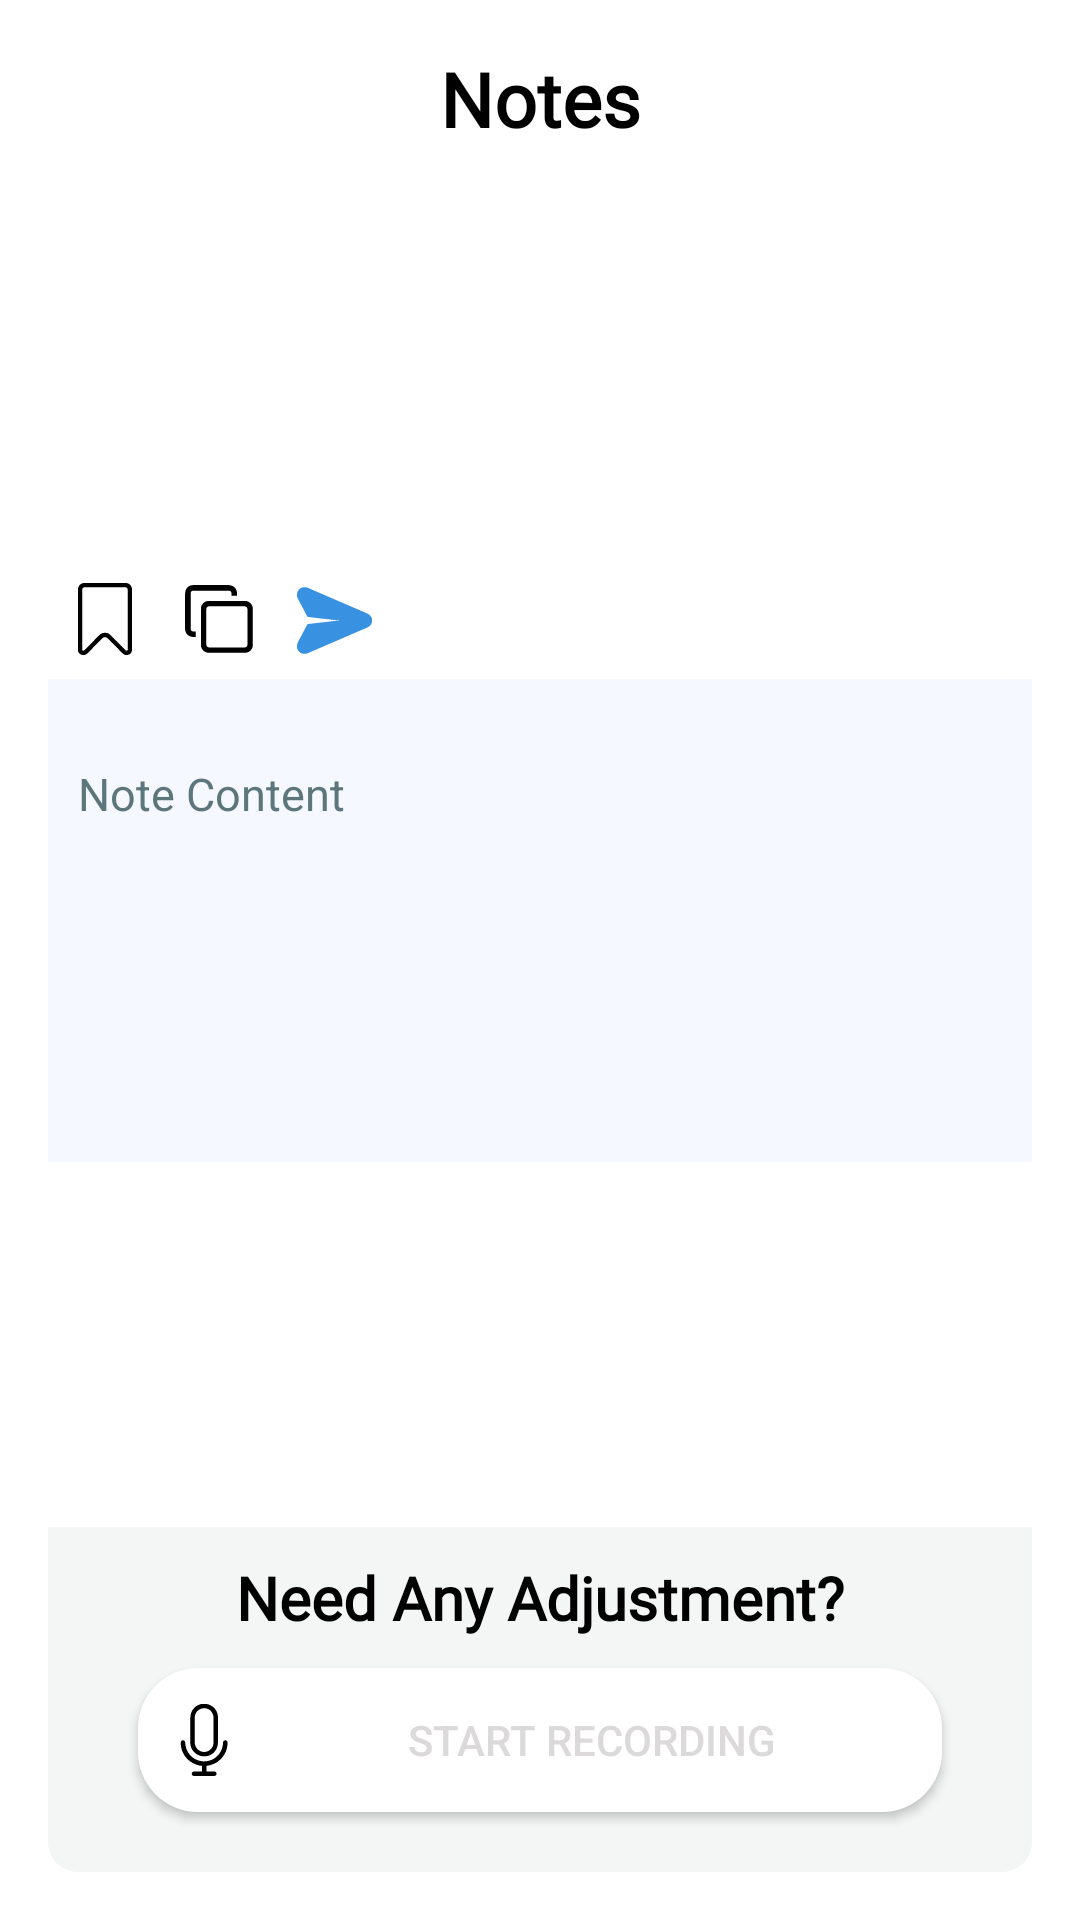

Icons on this 1080w x 1920h Android screen, each with its box as (x1, y1, x2, y2):
save note: (78, 583, 132, 655)
send: (297, 587, 372, 654)
